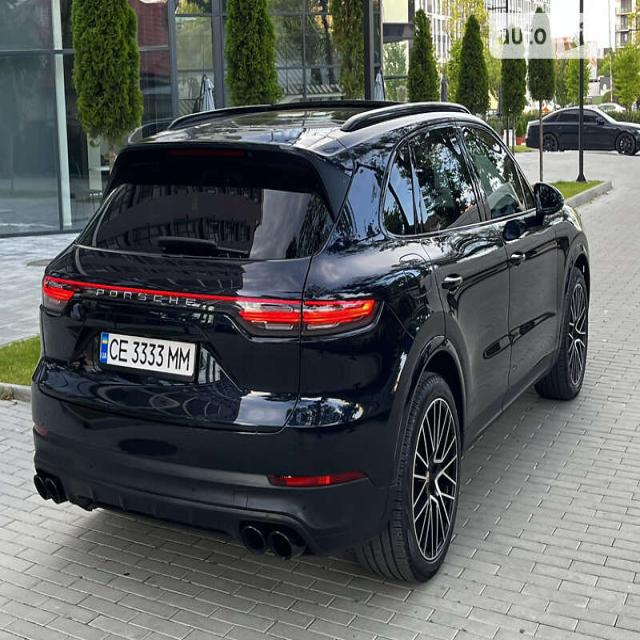plate: (94, 322, 209, 387)
